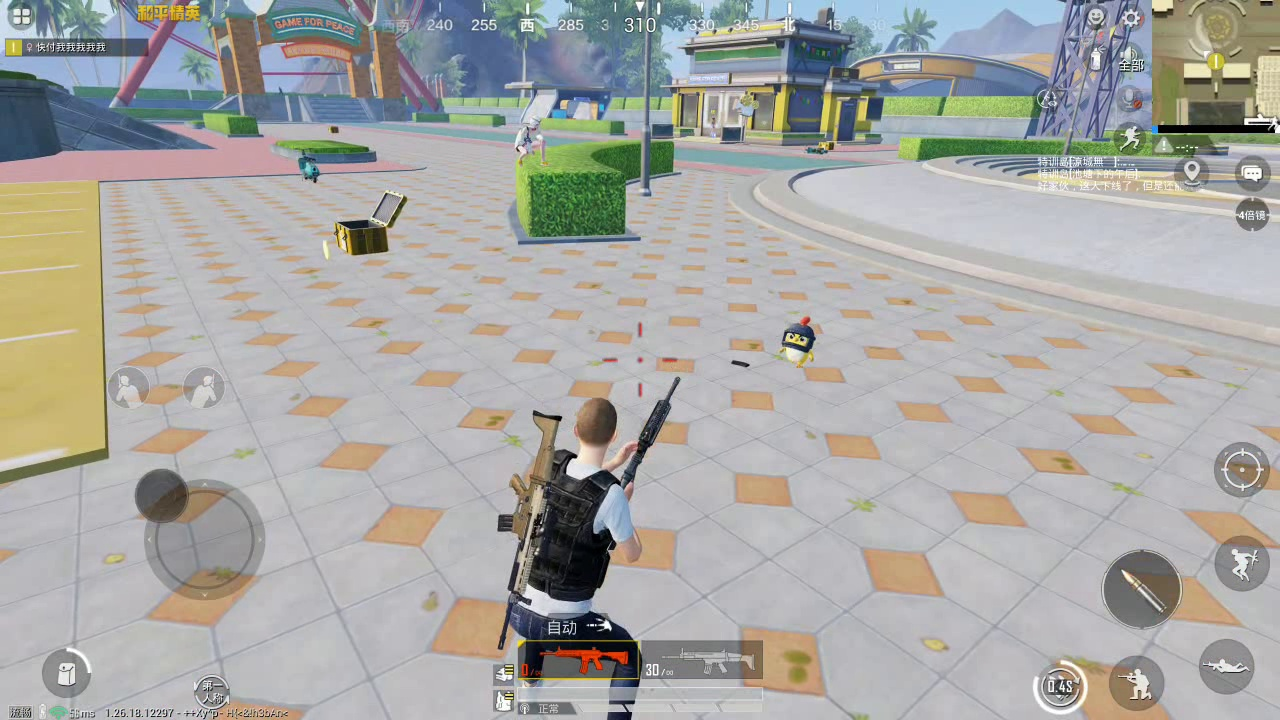enemy: (515, 116, 547, 167)
